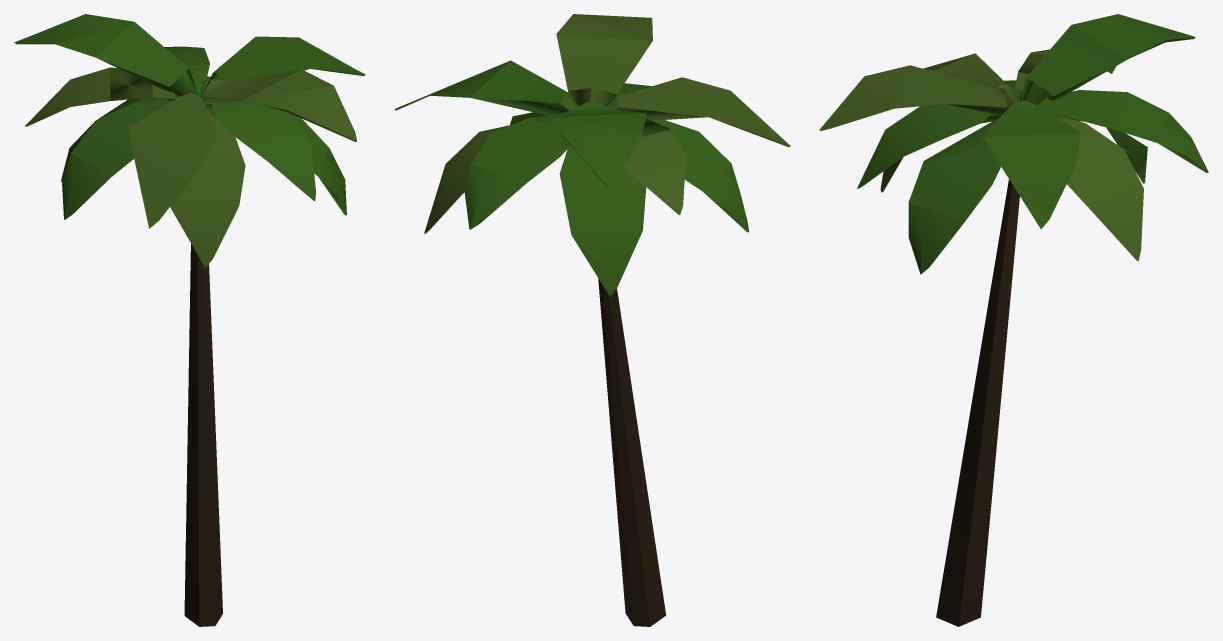
File: LowLowPolyPalm.obj
The picture shows the model from 3 angles, left to right: view 1: azimuth 30°, elevation 25°; view 2: azimuth 150°, elevation 25°; view 3: azimuth 270°, elevation 25°; orthographic projection. The views are drawn at different scales.
Parts seen in each view (by area): view 1: Palm-tree_Cylinder.001; view 2: Palm-tree_Cylinder.001; view 3: Palm-tree_Cylinder.001.
Part boxes in pixels (x1,y1,x2,y2): Palm-tree_Cylinder.001: [14, 14, 365, 626]; Palm-tree_Cylinder.001: [394, 14, 790, 626]; Palm-tree_Cylinder.001: [819, 14, 1208, 626].
Size of the model in its own units: 3.28 by 5.24 by 3.27.
